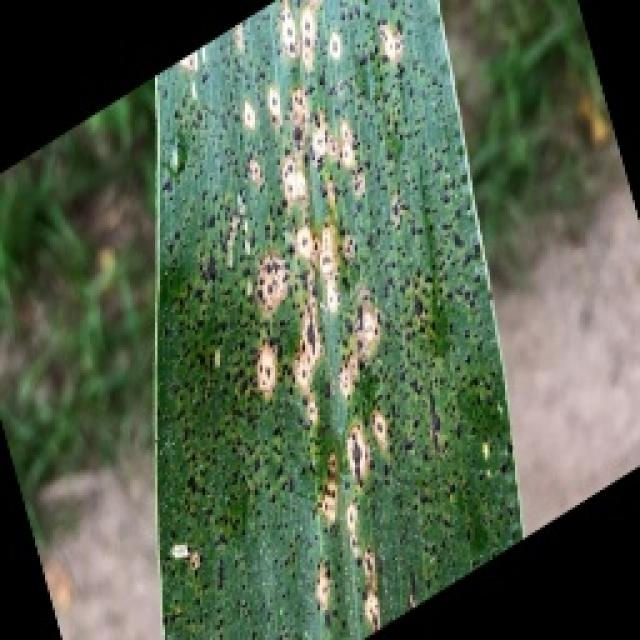Tar_Spot: (201, 78, 472, 480)
